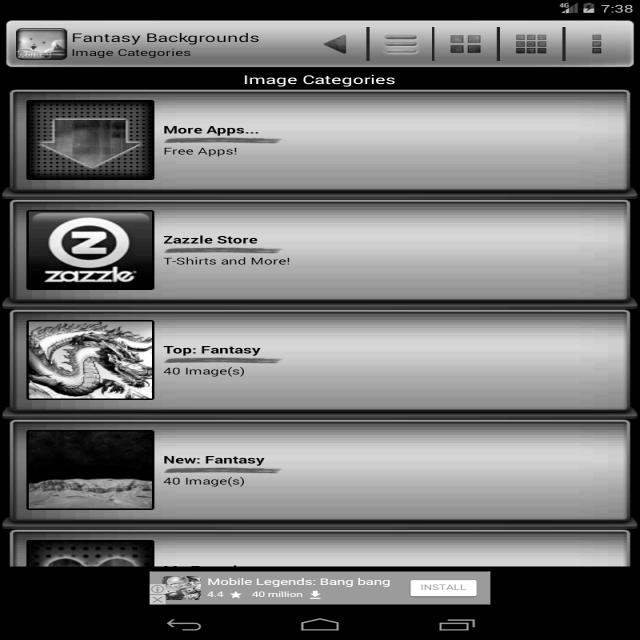Button: (405, 576, 481, 598)
ImageButton: (311, 26, 359, 58), (377, 29, 425, 59), (510, 28, 555, 58), (445, 31, 488, 58), (578, 28, 611, 58)
ImageView: (24, 430, 154, 510), (30, 211, 156, 291), (30, 101, 154, 179), (30, 321, 156, 397), (15, 27, 63, 62)
TextView: (72, 25, 263, 45), (238, 70, 401, 91), (206, 576, 395, 590), (160, 117, 257, 137), (162, 227, 262, 245), (164, 361, 248, 376), (159, 146, 244, 156)
